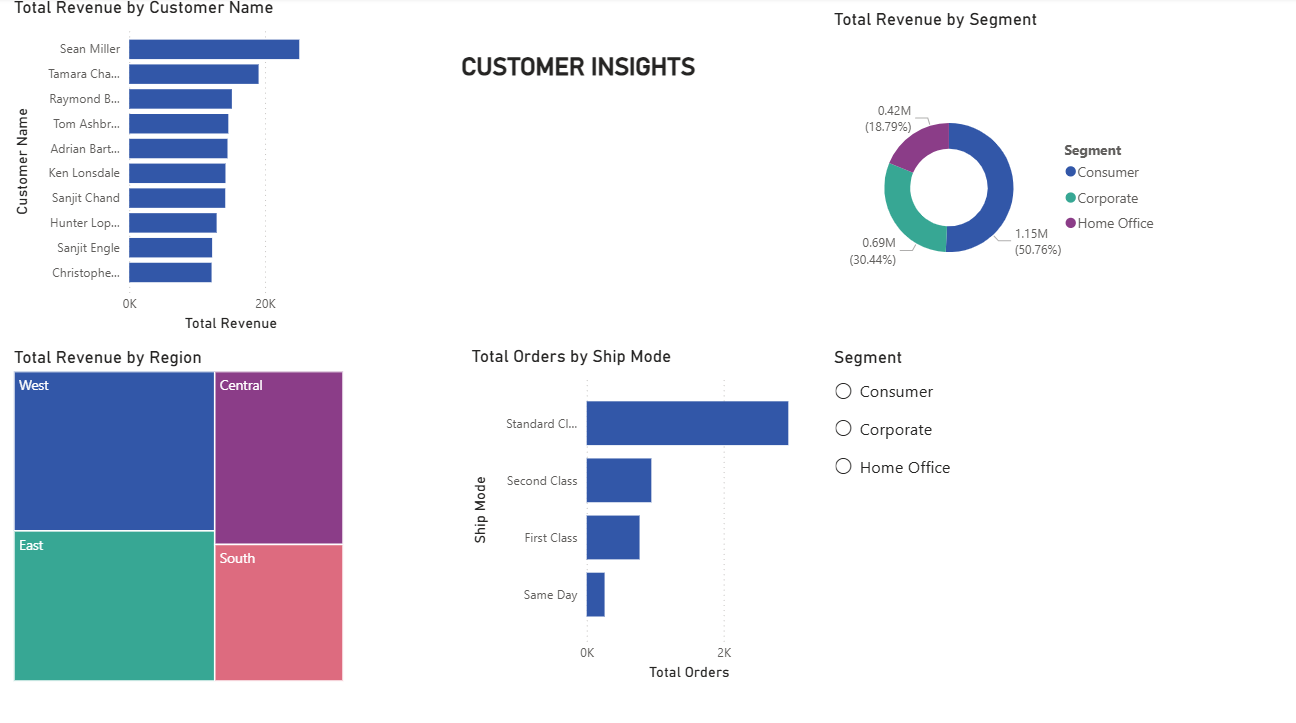

Layout of this report page (visuals, bound fields, positions):
{"tool":"powerbi","page":{"name":"Customer Insights","canvas":[1280,720],"ordinal":3},"visuals":[{"type":"clusteredBarChart","fields":{"Category":["train.Customer Name"],"Y":["Date Table.Total Revenue"]},"box":[9.6,0,332.1,332.1],"z":0},{"type":"donutChart","fields":{"Category":["train.Segment"],"Y":["Date Table.Total Revenue"]},"box":[812.4,11,332.1,332.1],"z":1000},{"type":"treemap","fields":{"Group":["train.Region"],"Values":["Date Table.Total Revenue"]},"box":[10,342,332,332],"z":2000},{"type":"clusteredBarChart","fields":{"Category":["train.Ship Mode"],"Y":["Date Table.Total Orders"]},"box":[456.9,341.7,330.7,332.1],"z":3000},{"type":"listSlicer","fields":{"Values":["train.Segment"]},"box":[812,343,332,331],"z":4000},{"type":"textbox","title":"CUSTOMER INSIGHTS","box":[447.3,53.5,260.7,63.1],"z":4001}]}

Visuals, with their boxes in screenshot pixels (x1, y1, x2, y2), scaled from the page's 1280x720 canvas onto the 1296x723 screenshot:
clusteredBarChart - train.Customer Name x Date Table.Total Revenue: region(10, 0, 346, 333)
donutChart - train.Segment x Date Table.Total Revenue: region(823, 11, 1159, 345)
treemap - train.Region x Date Table.Total Revenue: region(10, 343, 346, 677)
clusteredBarChart - train.Ship Mode x Date Table.Total Orders: region(463, 343, 797, 677)
listSlicer - train.Segment: region(822, 344, 1158, 677)
"CUSTOMER INSIGHTS" textbox: region(453, 54, 717, 117)
